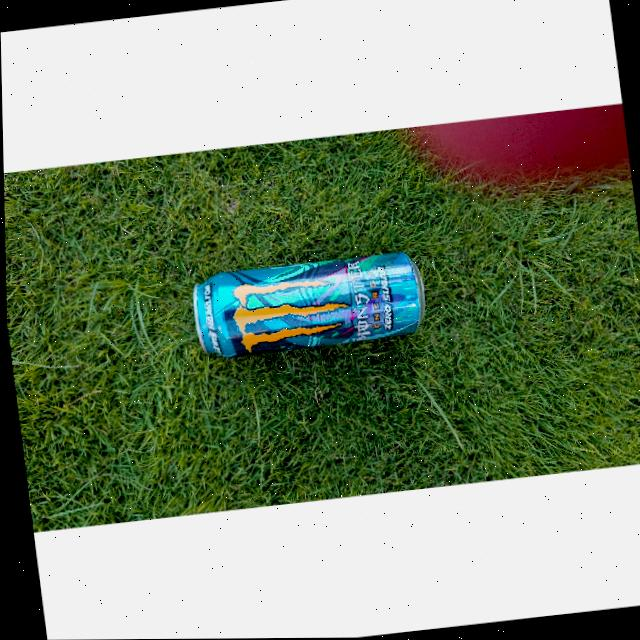Monster LH44: (172, 228, 439, 374)
